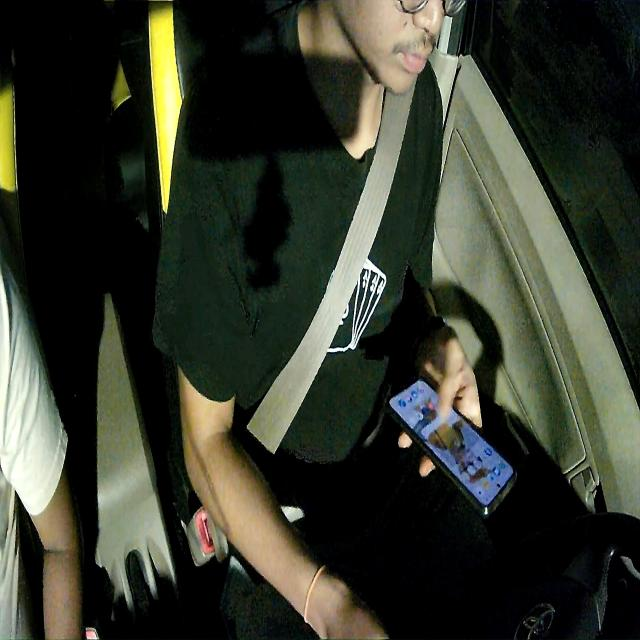phone: (387, 372, 517, 518)
